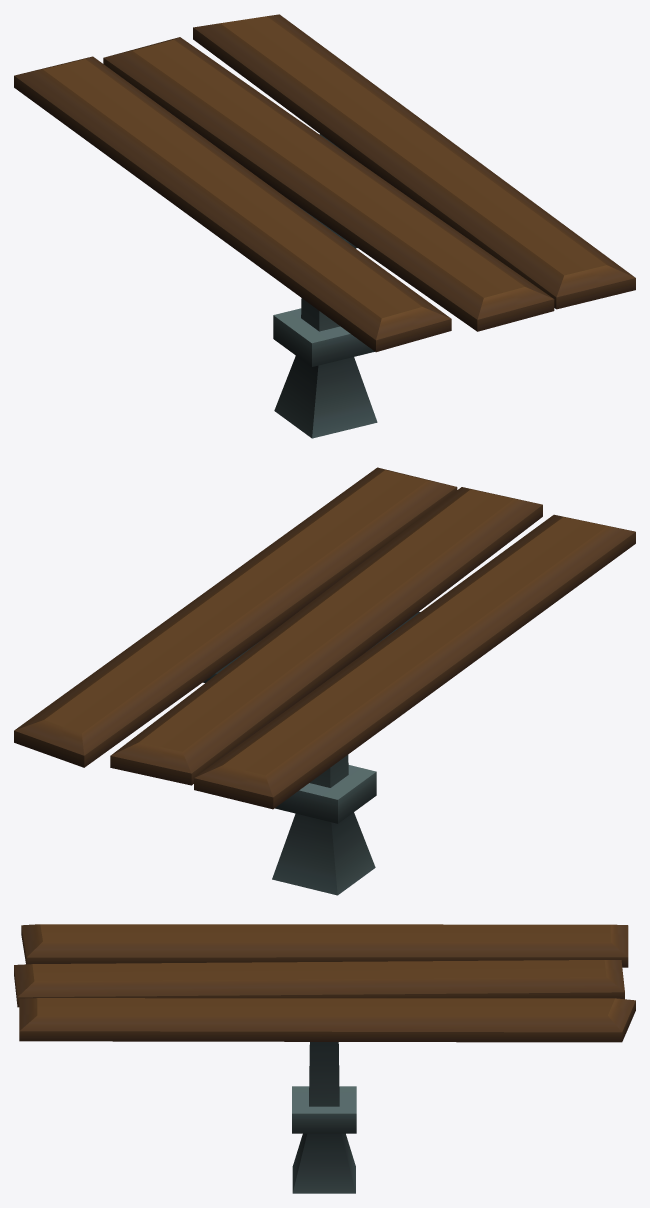
Rendered from Table_1C.fbx.
3 renders of one model, top to bottom at view 1: azimuth 30°, elevation 25°; view 2: azimuth 150°, elevation 25°; view 3: azimuth 270°, elevation 25°, orthographic. The views are drawn at different scales.
Parts seen in each view (by area): view 1: Table_1C; view 2: Table_1C; view 3: Table_1C.
Part boxes in pixels (x1,y1,x2,y2): Table_1C: [14, 14, 635, 438]; Table_1C: [14, 467, 635, 895]; Table_1C: [14, 924, 635, 1193].
Size of the model in its own units: 143 by 131 by 351.
